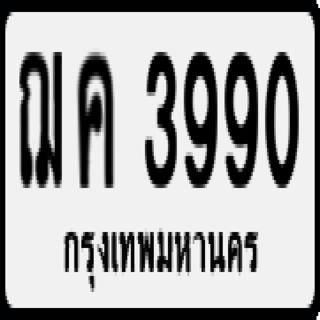A04: (70, 46, 122, 197)
A12: (12, 45, 70, 192)
N00: (262, 48, 305, 194)
N03: (138, 45, 179, 193)
N09: (180, 46, 221, 192), (221, 47, 262, 193)
P04: (57, 222, 266, 298)
